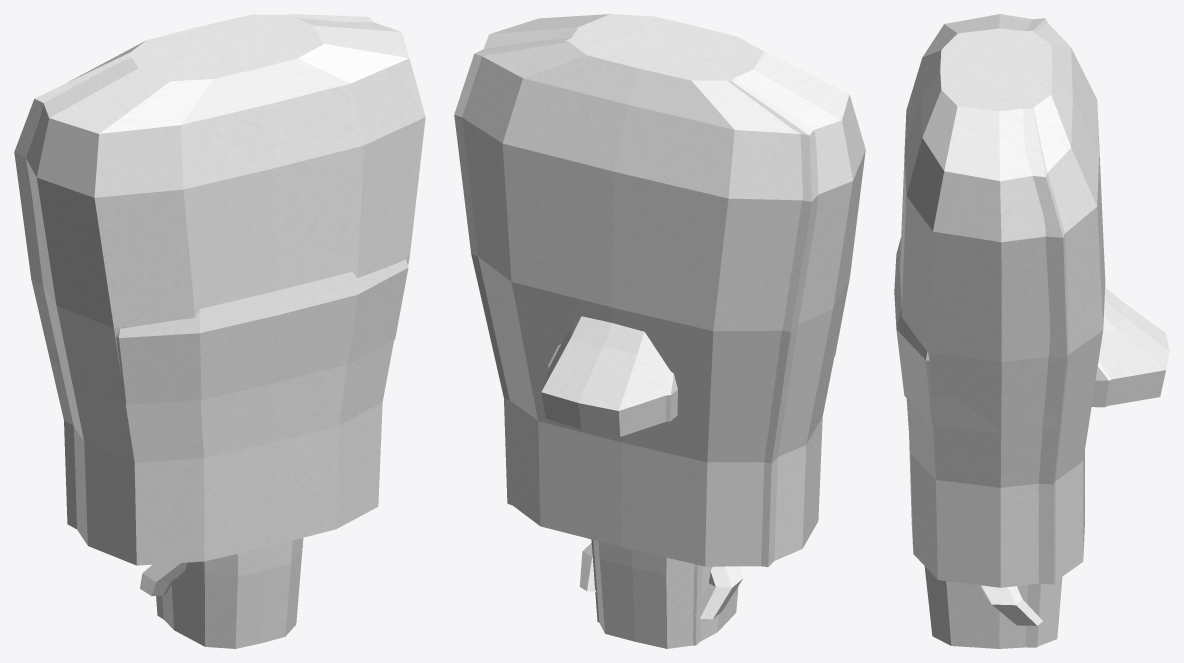
File: body.glb
3 views of the same model, side by side, from view 1: azimuth 30°, elevation 25°; view 2: azimuth 150°, elevation 25°; view 3: azimuth 270°, elevation 25° (orthographic). The views are drawn at different scales.
Visible parts, largest first — view 1: body_torso_LOD0_RAID_skin.001, body_pelvis_LOD0_RAID_skin.001, body_thighL_LOD0_RAID_skin.001, body_torso_LOD1_RAID_skin.001, body_foreR_LOD0_RAID_skin.001; view 2: body_torso_LOD0_RAID_skin.001, body_torso_LOD1_RAID_skin.001, body_footL_LOD0_RAID_skin.001, body_thighL_LOD0_RAID_skin.001, body_foreR_LOD0_RAID_skin.001, body_thighL_LOD1_RAID_skin.001; view 3: body_torso_LOD0_RAID_skin.001, body_torso_LOD1_RAID_skin.001, body_thighL_LOD0_RAID_skin.001, body_footL_LOD0_RAID_skin.001, body_pelvis_LOD0_RAID_skin.001, body_foreL_LOD0_RAID_skin.001, body_thighL_LOD1_RAID_skin.001, body_footL_LOD1_RAID_skin.001.
Part boxes in pixels (box(x1,y1,x2,y2)): body_torso_LOD0_RAID_skin.001: box(26, 14, 425, 565); body_pelvis_LOD0_RAID_skin.001: box(72, 259, 408, 404); body_thighL_LOD0_RAID_skin.001: box(162, 538, 303, 648); body_torso_LOD1_RAID_skin.001: box(14, 14, 373, 529); body_foreR_LOD0_RAID_skin.001: box(140, 562, 186, 596); body_torso_LOD0_RAID_skin.001: box(462, 14, 865, 566); body_torso_LOD1_RAID_skin.001: box(454, 15, 818, 567); body_footL_LOD0_RAID_skin.001: box(541, 316, 670, 436); body_thighL_LOD0_RAID_skin.001: box(593, 540, 738, 648); body_foreR_LOD0_RAID_skin.001: box(695, 566, 743, 619); body_thighL_LOD1_RAID_skin.001: box(591, 539, 702, 645); body_torso_LOD0_RAID_skin.001: box(900, 14, 1105, 587); body_torso_LOD1_RAID_skin.001: box(941, 18, 1068, 584); body_thighL_LOD0_RAID_skin.001: box(924, 566, 1062, 648); body_footL_LOD0_RAID_skin.001: box(1098, 287, 1169, 405); body_pelvis_LOD0_RAID_skin.001: box(894, 237, 1000, 433); body_foreL_LOD0_RAID_skin.001: box(978, 585, 1042, 625); body_thighL_LOD1_RAID_skin.001: box(1026, 583, 1041, 647); body_footL_LOD1_RAID_skin.001: box(1091, 362, 1111, 407).
Size of the model in its own units: 0.414 by 0.6025 by 0.27.
Materials: 1 (1 with a texture image).
